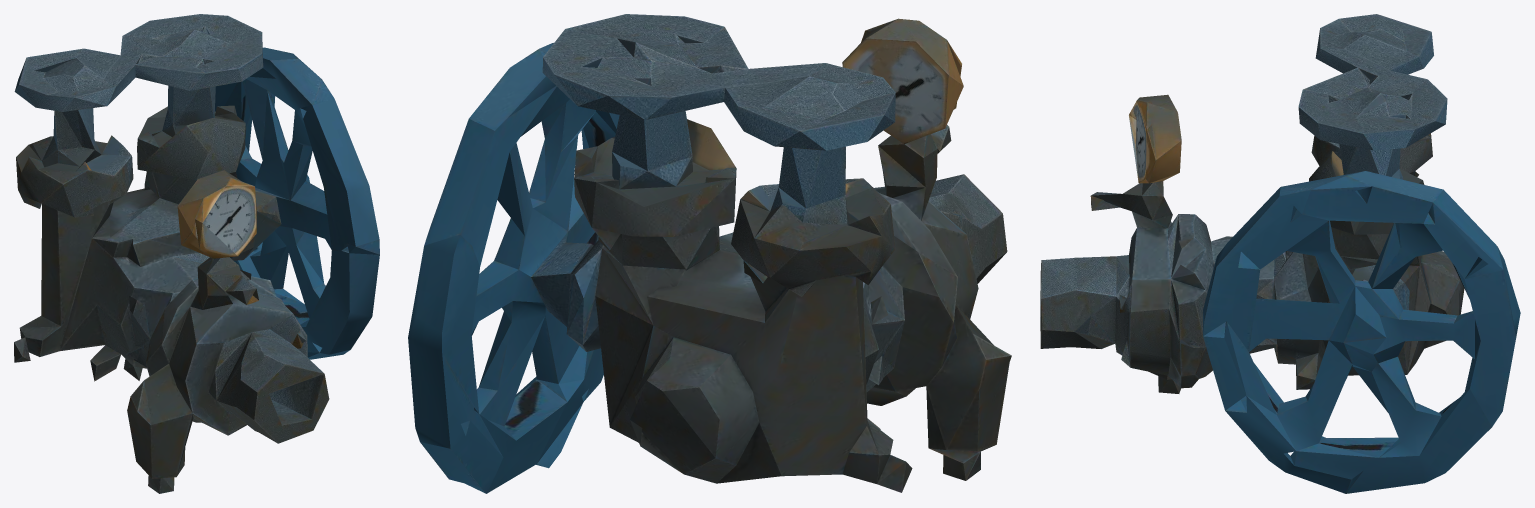
The model's file is coolant_valve.glb.
3 views of the same model, side by side, from view 1: azimuth 30°, elevation 25°; view 2: azimuth 150°, elevation 25°; view 3: azimuth 270°, elevation 25° (orthographic). The views are drawn at different scales.
Size of the model in its own units: 1.23 by 1.4 by 1.67.
Materials: 1 (1 with a texture image).
